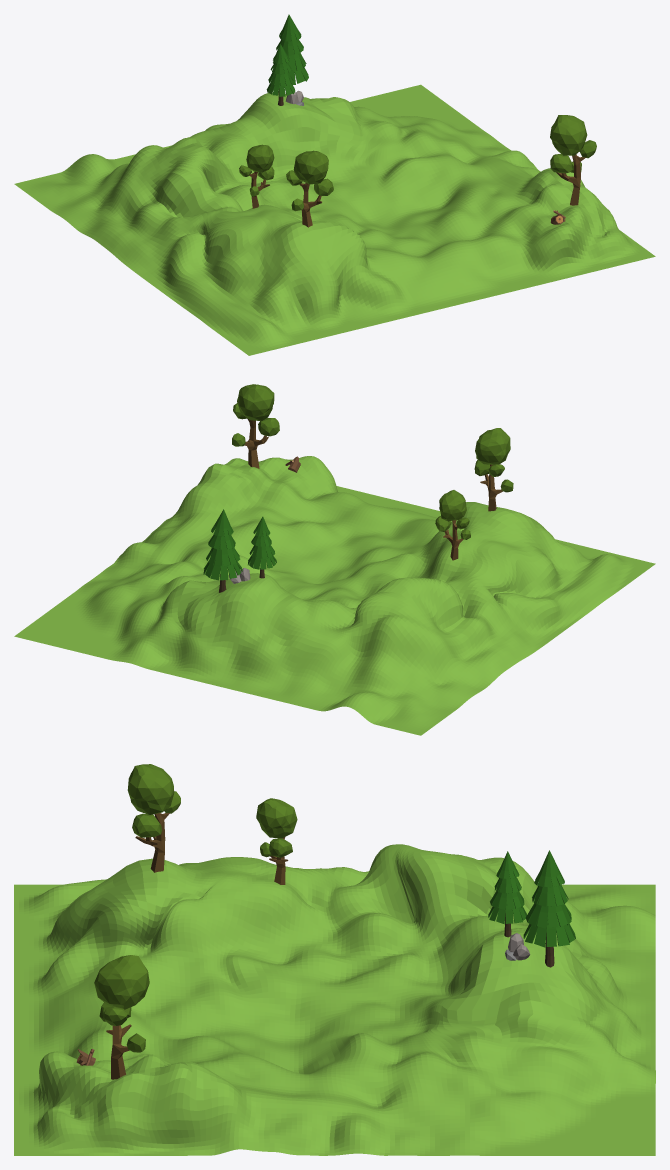
The model's file is mundo-lowpoly2.glb.
3 views of the same model, one above another, from view 1: azimuth 30°, elevation 25°; view 2: azimuth 150°, elevation 25°; view 3: azimuth 270°, elevation 25° (orthographic). The views are drawn at different scales.
Visible parts, largest first — view 1: Plane, Tree1.002, Tree1, Tree1.001, Tree2.001, Tree2; view 2: Plane, Tree1.002, Tree1, Tree2.001, Tree1.001, Tree2; view 3: Plane, Tree1.002, Tree1, Tree2.001, Tree1.001, Tree2.
Part boxes in pixels (bbox=[...]): Plane: bbox=[14, 84, 655, 355]; Tree1.002: bbox=[550, 115, 596, 205]; Tree1: bbox=[286, 150, 333, 227]; Tree1.001: bbox=[239, 144, 274, 208]; Tree2.001: bbox=[271, 14, 308, 84]; Tree2: bbox=[266, 44, 295, 105]; Plane: bbox=[14, 456, 655, 735]; Tree1.002: bbox=[232, 384, 279, 468]; Tree1: bbox=[474, 428, 513, 511]; Tree2.001: bbox=[203, 509, 242, 592]; Tree1.001: bbox=[435, 490, 470, 560]; Tree2: bbox=[248, 516, 276, 578]; Plane: bbox=[14, 844, 655, 1155]; Tree1.002: bbox=[94, 955, 149, 1079]; Tree1: bbox=[127, 764, 180, 872]; Tree2.001: bbox=[523, 850, 575, 967]; Tree1.001: bbox=[256, 798, 297, 884]; Tree2: bbox=[488, 851, 526, 937].
Size of the model in its own units: 31.82 by 10.61 by 31.7.
